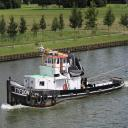tugboat: (7, 45, 126, 112)
